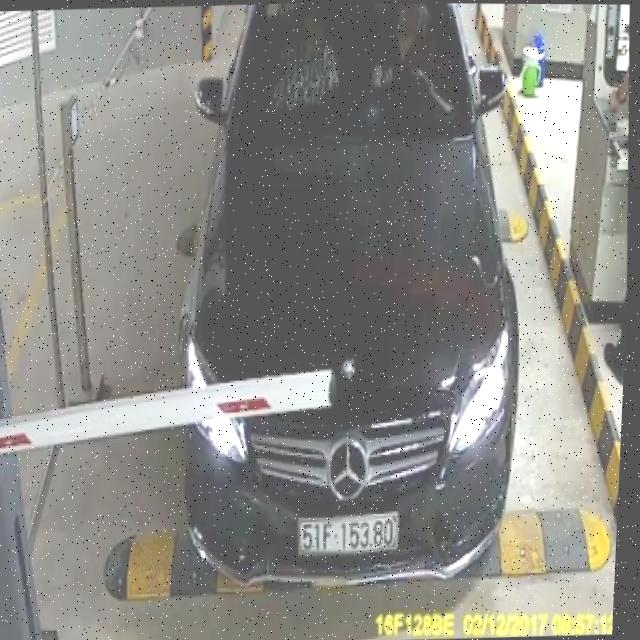car: (157, 1, 543, 599)
plate: (294, 508, 404, 562)
